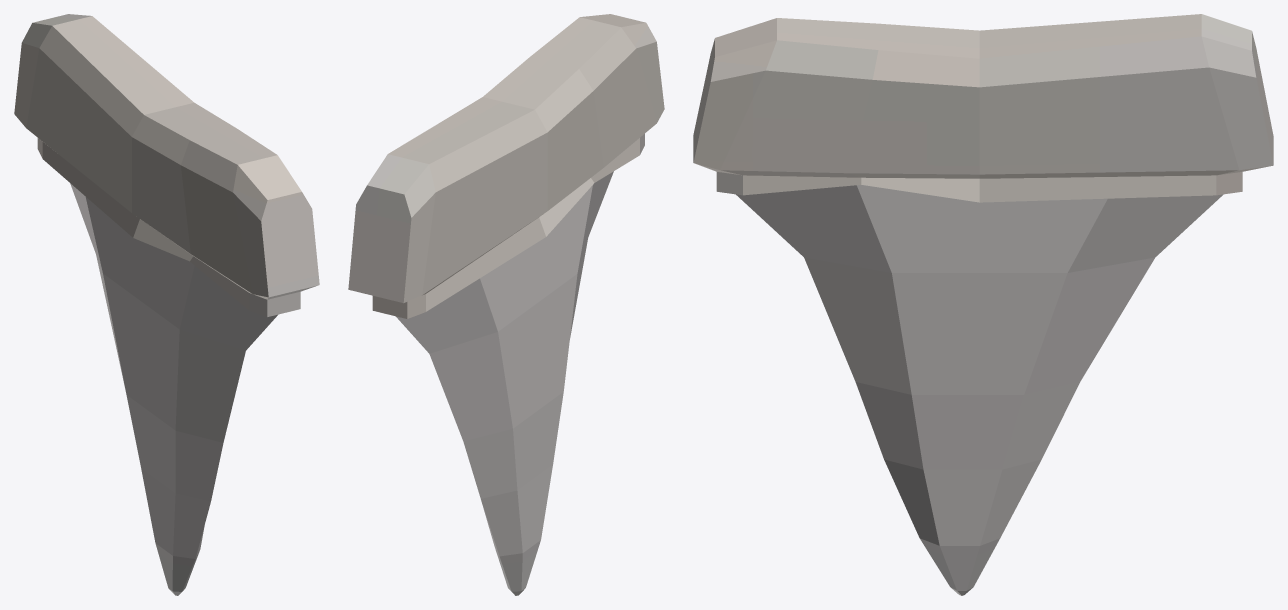
Rendered from shark_tooth.glb.
3 renders of one model, left to right at view 1: azimuth 30°, elevation 25°; view 2: azimuth 150°, elevation 25°; view 3: azimuth 270°, elevation 25°, orthographic. The views are drawn at different scales.
Visible parts, largest first — view 1: Geo_SharkTooth; view 2: Geo_SharkTooth; view 3: Geo_SharkTooth.
Part boxes in pixels (left/top/right/bottom): Geo_SharkTooth: left=14, top=14, right=319, bottom=595; Geo_SharkTooth: left=348, top=14, right=664, bottom=595; Geo_SharkTooth: left=693, top=14, right=1273, bottom=595.
Size of the model in its own units: 5.4 by 34.3 by 31.64.
Materials: 1 (1 with a texture image).
